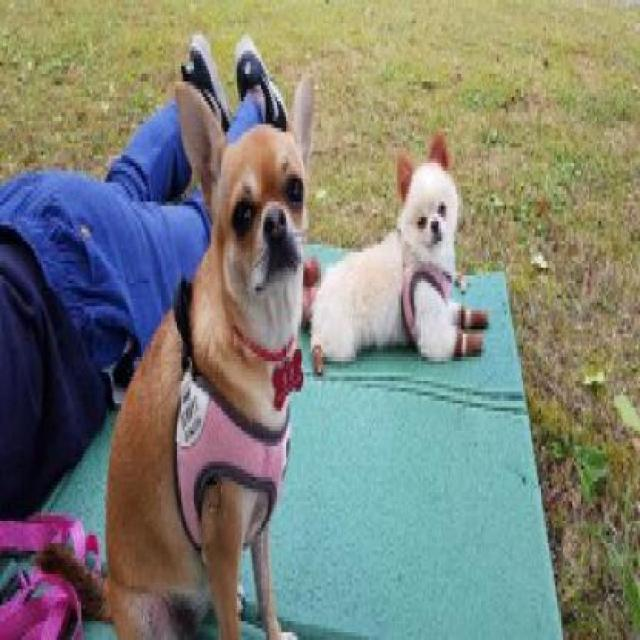Dog: (106, 71, 325, 637)
